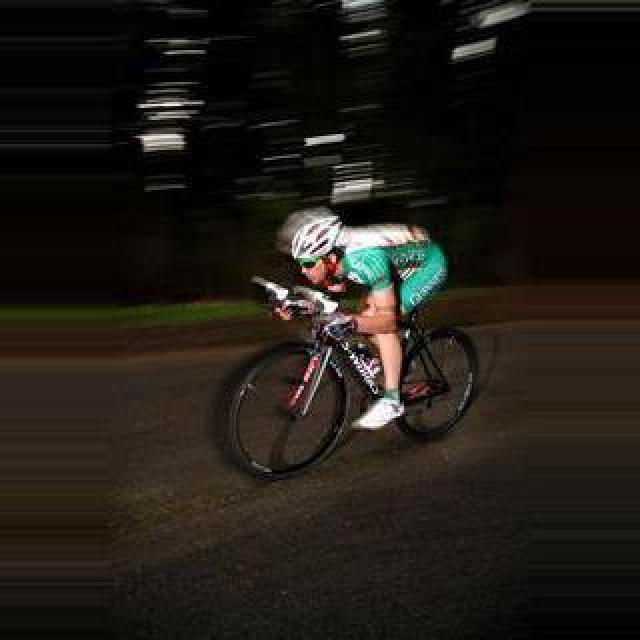MC-Bike: (284, 208, 448, 430)
Person: (225, 283, 481, 475)
